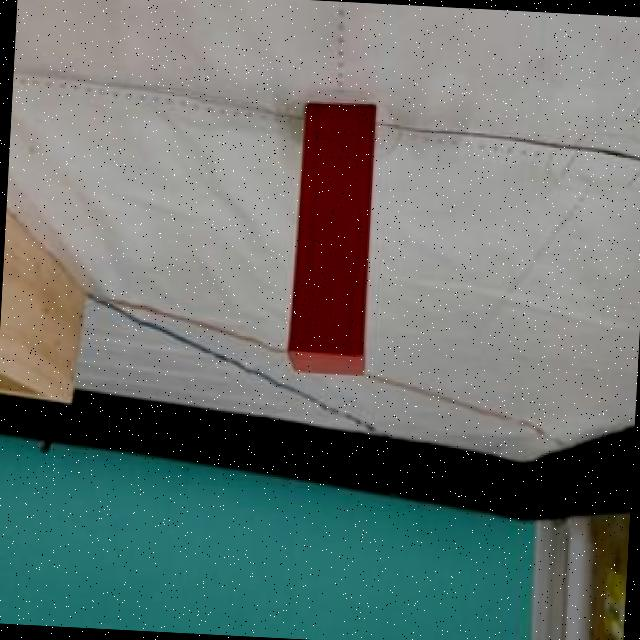redbox: (283, 97, 382, 380)
